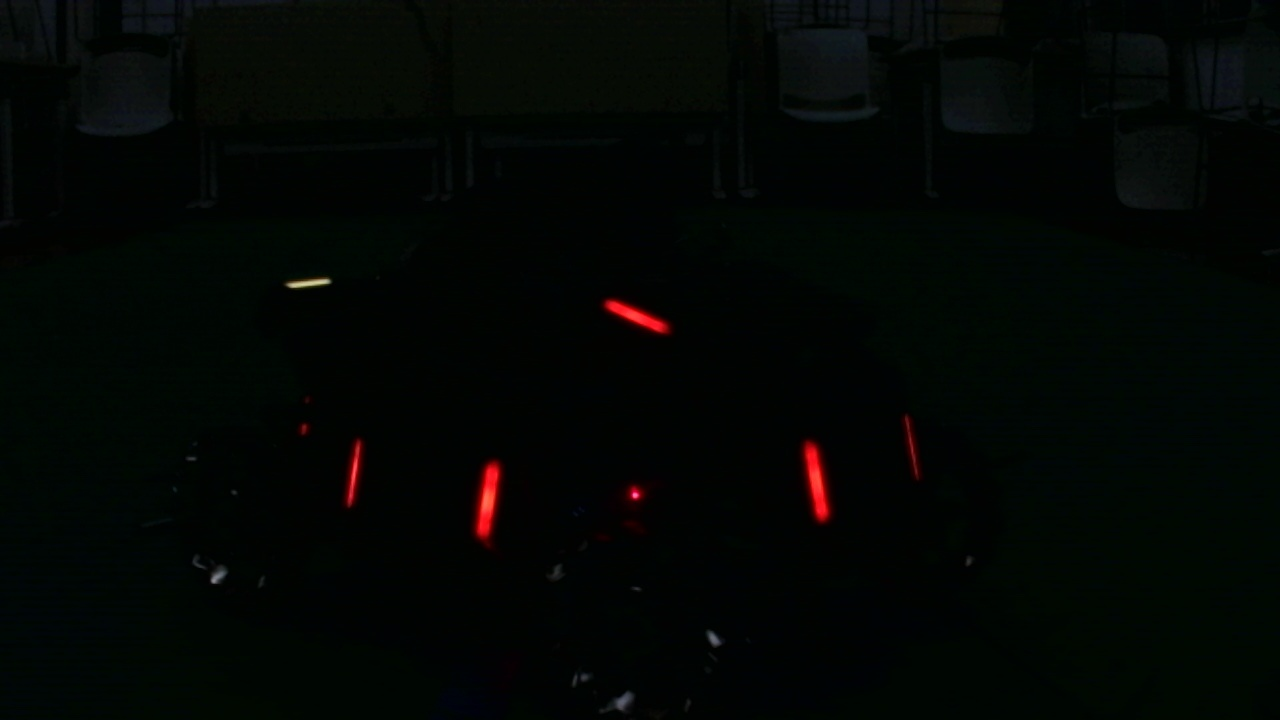lamp: (801, 434, 827, 527), (472, 461, 499, 543), (343, 439, 366, 507), (904, 413, 925, 484)
notpair1: (472, 433, 828, 545)
pair1: (346, 442, 502, 541)
